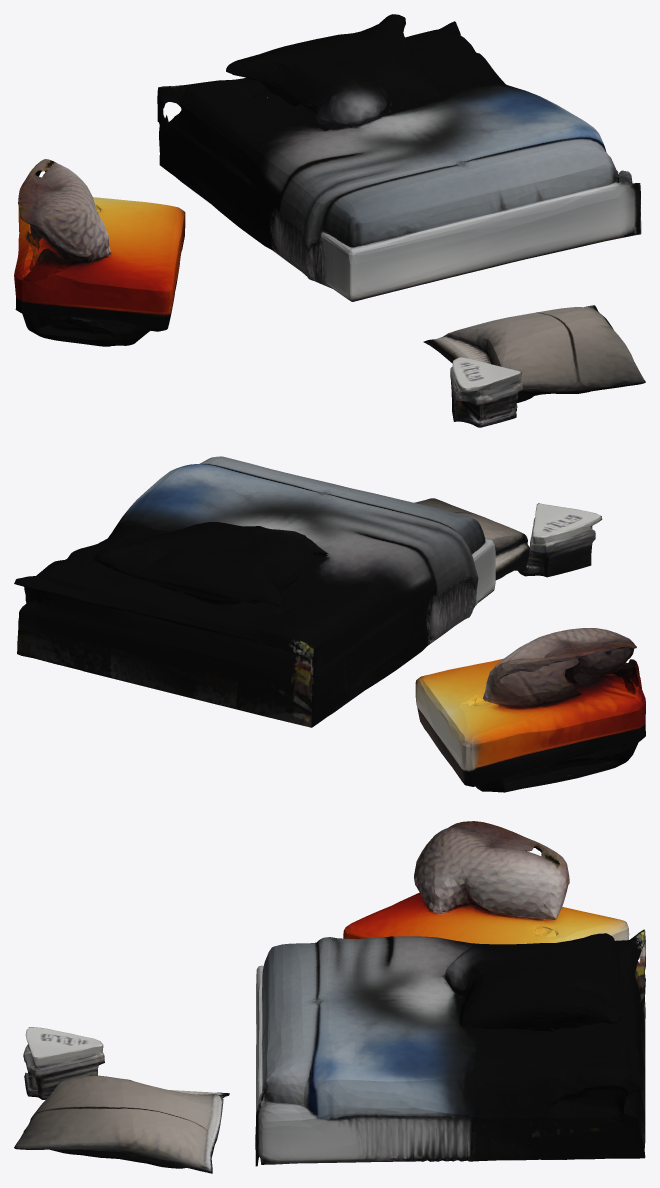
The picture shows the model from 3 angles, top to bottom: view 1: azimuth 30°, elevation 25°; view 2: azimuth 150°, elevation 25°; view 3: azimuth 270°, elevation 25°; orthographic projection. The views are drawn at different scales.
Visible parts, largest first — view 1: world; view 2: world; view 3: world.
Part boxes in pixels (<box>): world: <box>14,14,645,427</box>; world: <box>14,456,645,792</box>; world: <box>14,821,645,1173</box>.
Bounding box in the file's own units: 1 × 0.3028 × 0.9928.
Materials: 1 (1 with a texture image).
